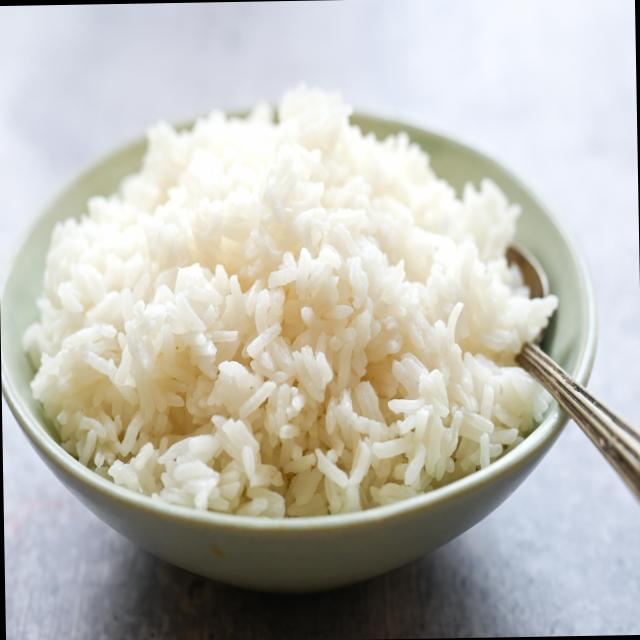rice: (20, 84, 560, 510)
